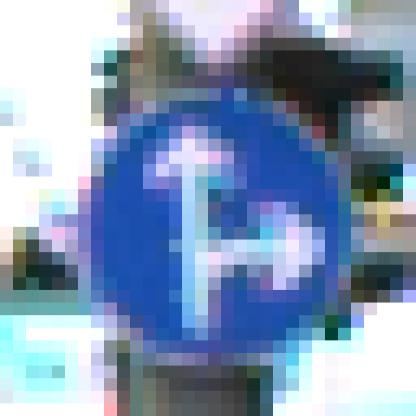Straight or Right: (66, 77, 352, 354)
